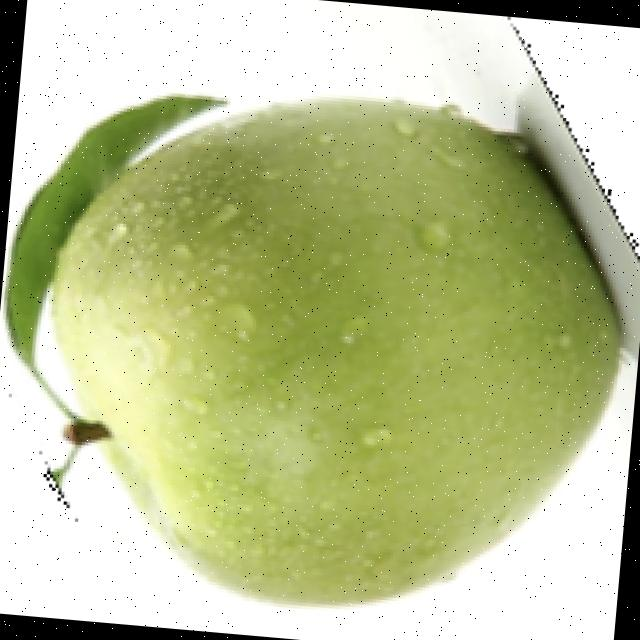apple: (1, 52, 640, 612)
